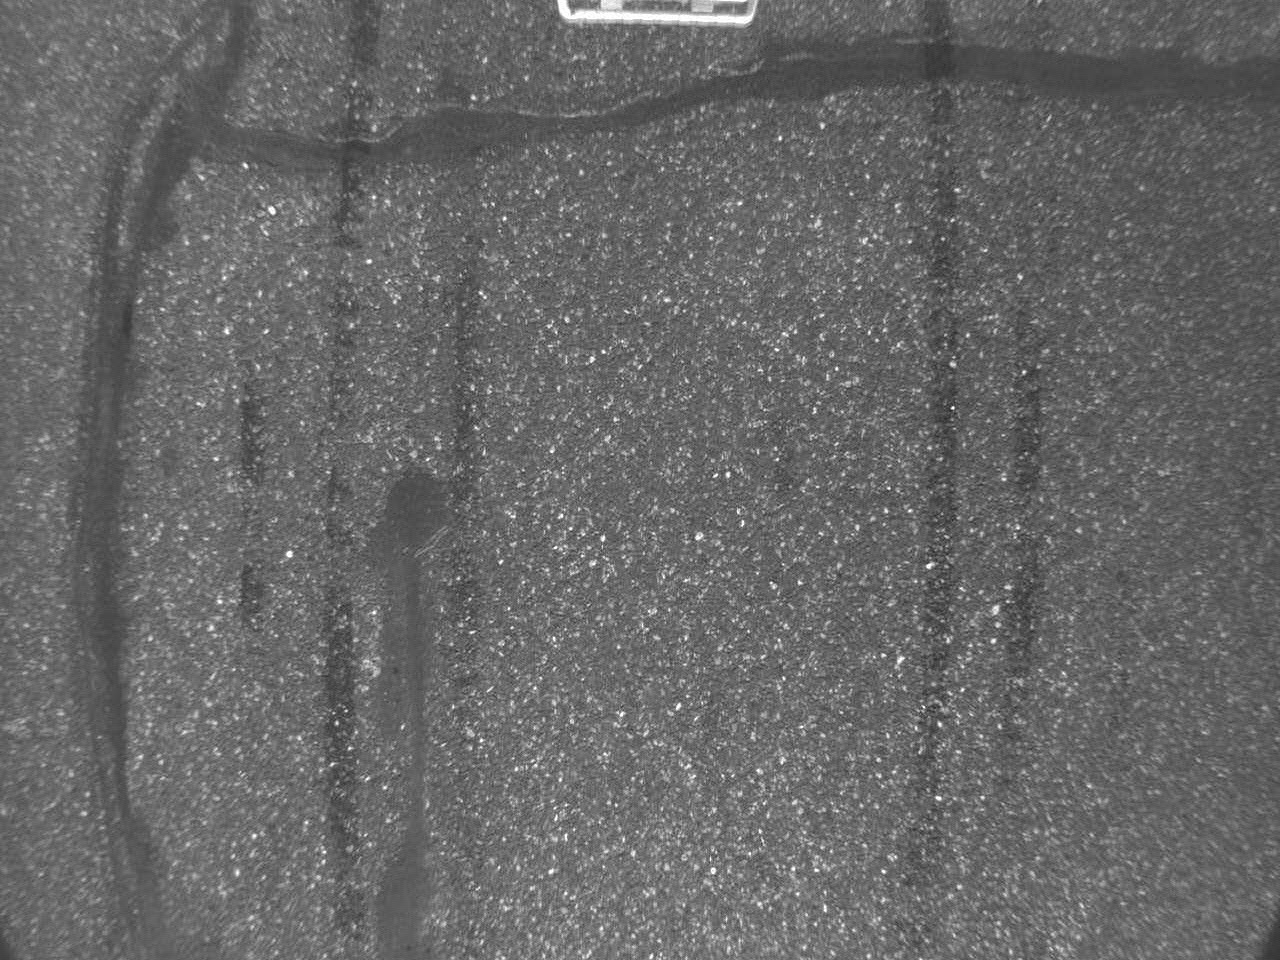sealed: (61, 14, 255, 960), (168, 40, 1280, 162)
